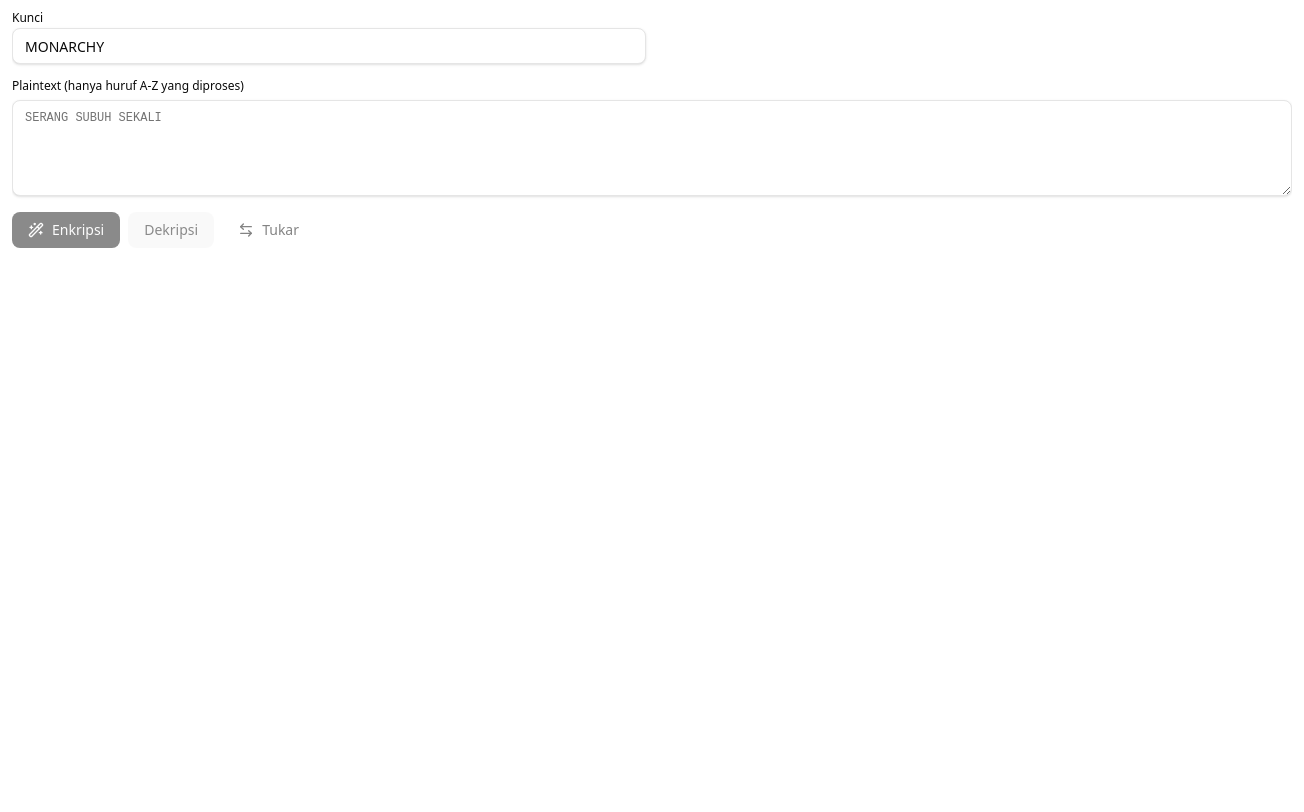
TextPanel — enkripsi/dekripsi teks lewat GUI › Playfair: MONARCHY + INSTRUMENTS -> gatlmzclrqxa
The image size is (1304, 812).
Step 1. Type "INSTRUMENTS" into the text box labelled "Plaintext (hanya huruf A-Z yang diproses)" → (652, 148), box [12,100,1292,196]
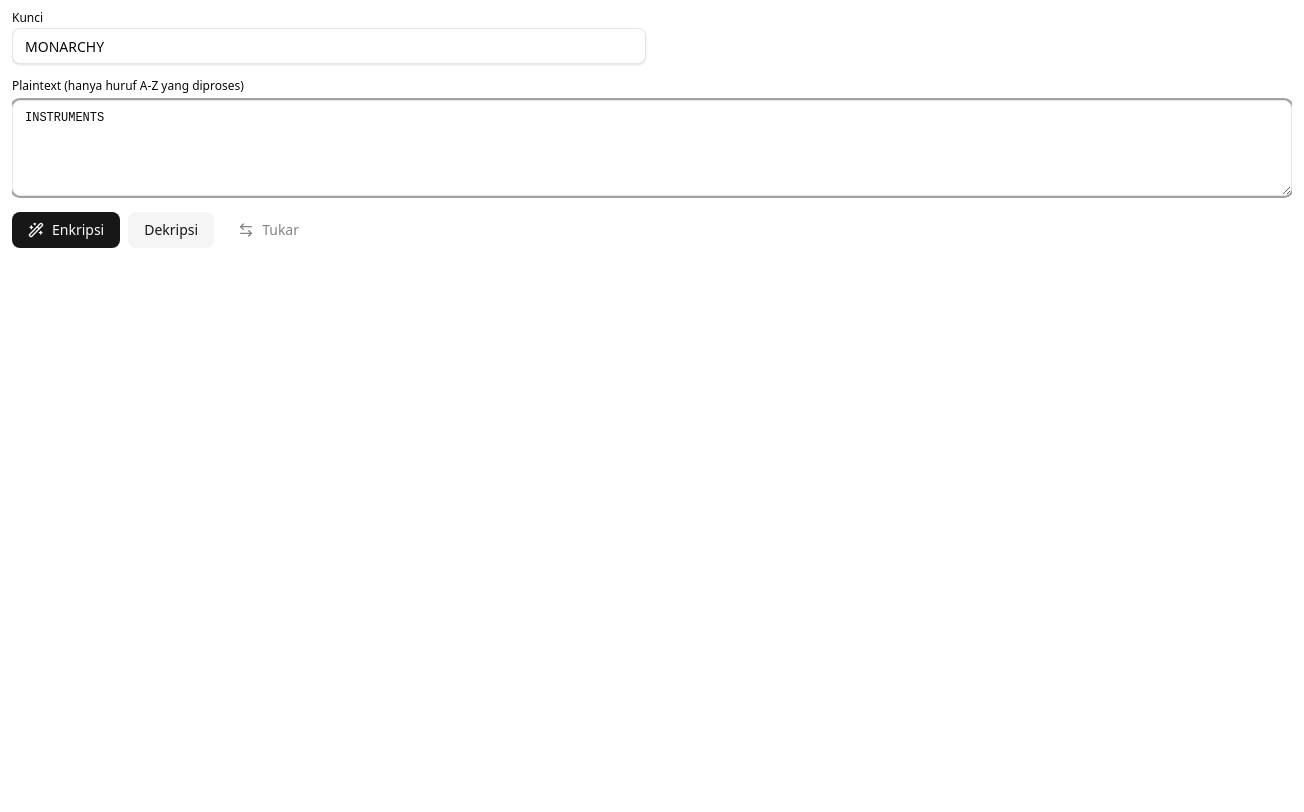
Step 2. Click the button "Enkripsi" → click(66, 230), box [12,212,120,248]
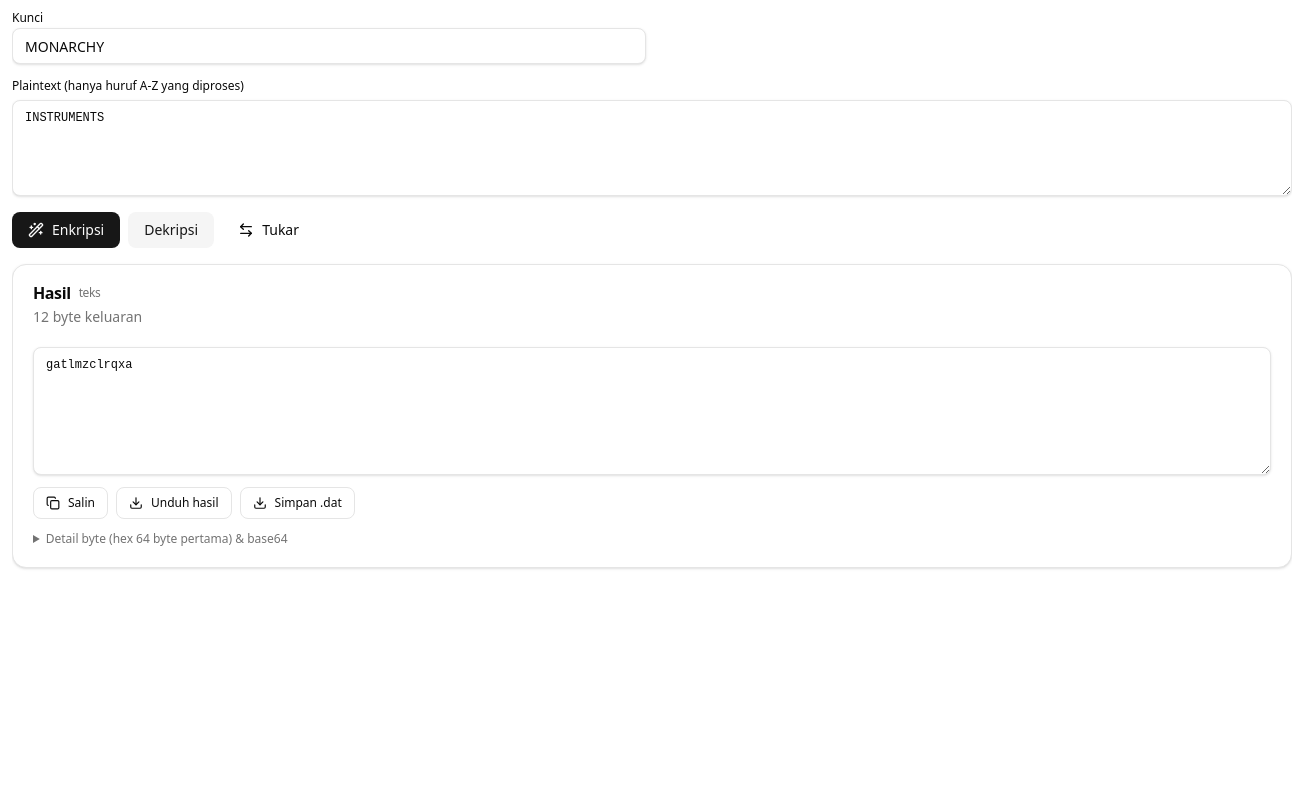
Now the text box with test id "result-output" holds "gatlmzclrqxa", box [33,347,1271,475]
